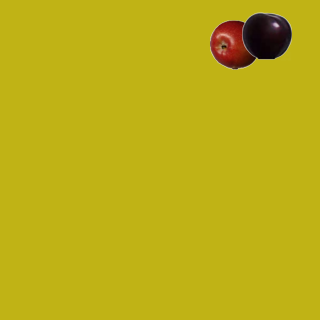Apple Braeburn: (209, 19, 259, 69)
Cherry Wax Black: (241, 10, 291, 60)
